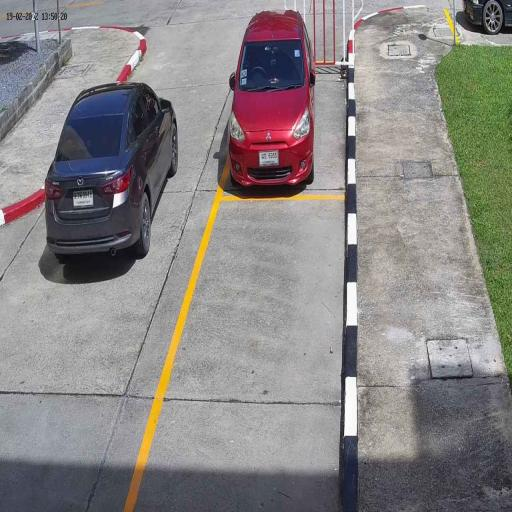car: (42, 80, 181, 268), (226, 9, 316, 189)
